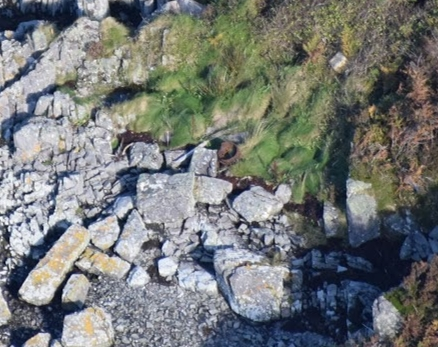tube: (166, 135, 215, 175)
white_in_green: (197, 127, 258, 178)
